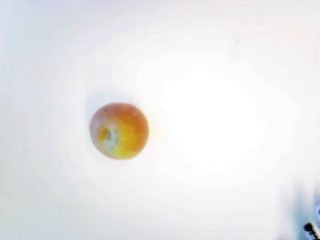apple: (87, 99, 152, 164)
